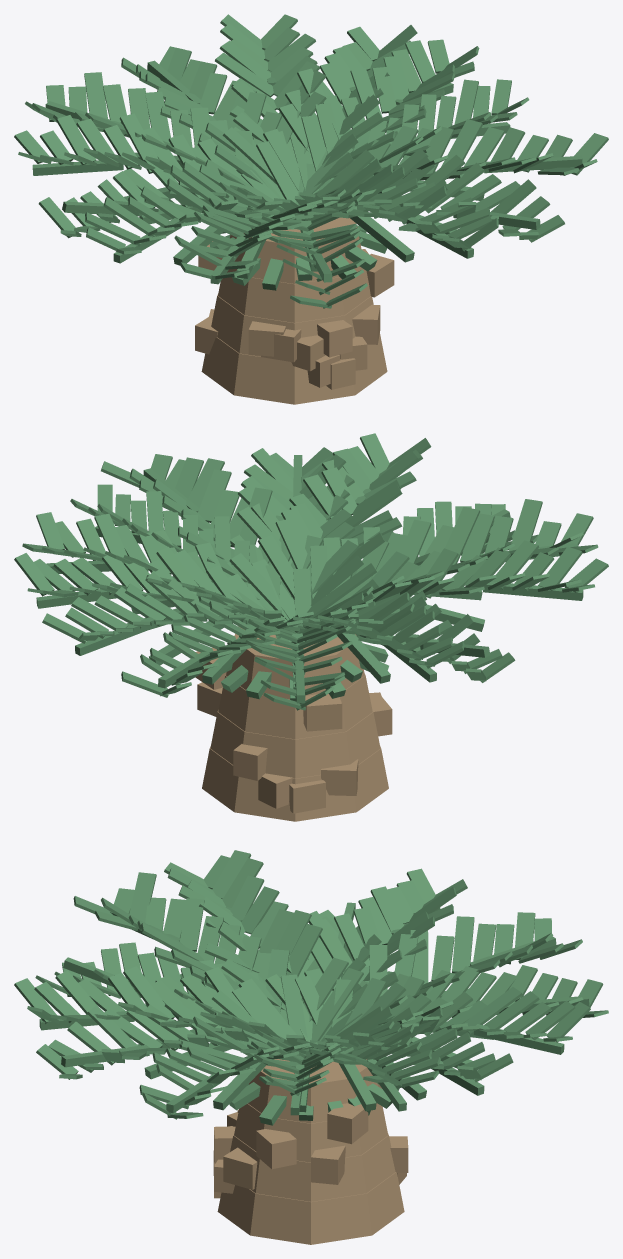
The model's file is cycad.glb.
The picture shows the model from 3 angles, top to bottom: view 1: azimuth 30°, elevation 25°; view 2: azimuth 150°, elevation 25°; view 3: azimuth 270°, elevation 25°; orthographic projection.
Visible parts, largest first — view 1: botanical-glasshouse-and-palm-house-cycad; view 2: botanical-glasshouse-and-palm-house-cycad; view 3: botanical-glasshouse-and-palm-house-cycad.
Boxes of the visible parts, x1,y1,x2,y2 form: botanical-glasshouse-and-palm-house-cycad: (14, 14, 608, 404); botanical-glasshouse-and-palm-house-cycad: (14, 433, 608, 821); botanical-glasshouse-and-palm-house-cycad: (14, 850, 608, 1244).
Bounding box in the file's own units: 1.49 × 0.6688 × 1.5.
